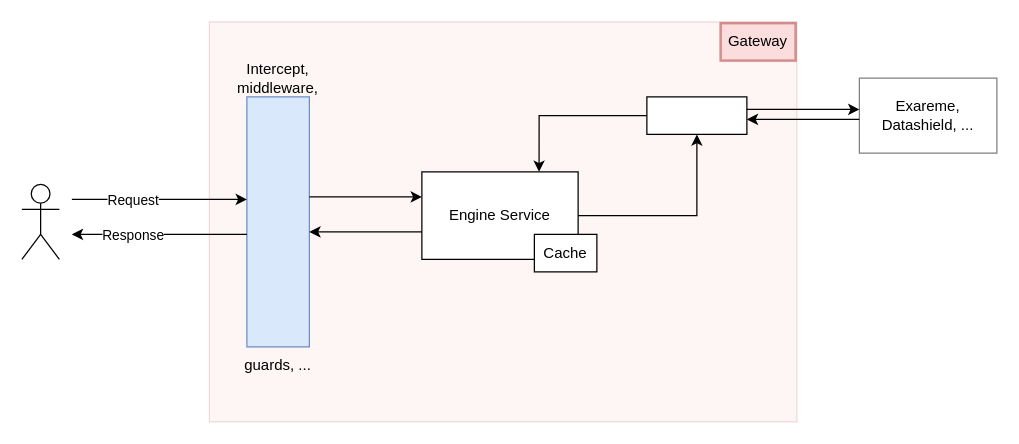
This 1019x444 diagram has some shape labels left out. The shapes that lost their labels are listed below. From the top down, each one's box as (x1, y1, x2, y2) in pixels, then its label:
(646, 96, 747, 134): Connector
(21, 183, 59, 259): Actor
